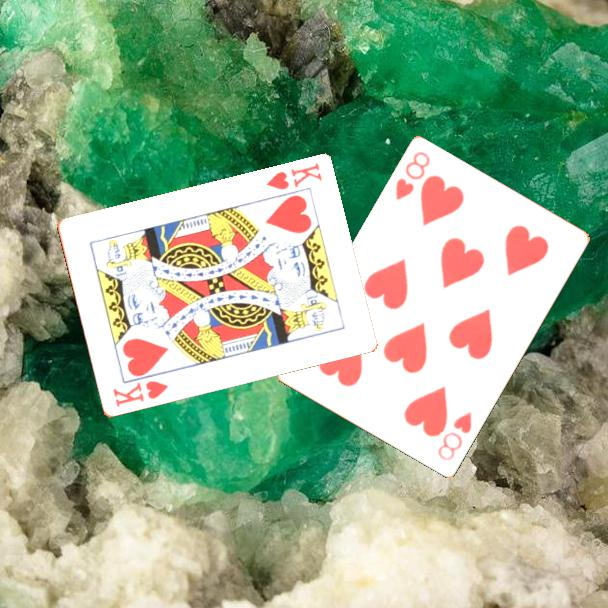h08: (392, 148, 433, 204), (434, 409, 475, 464)
h13: (262, 160, 324, 193), (109, 378, 171, 410)
